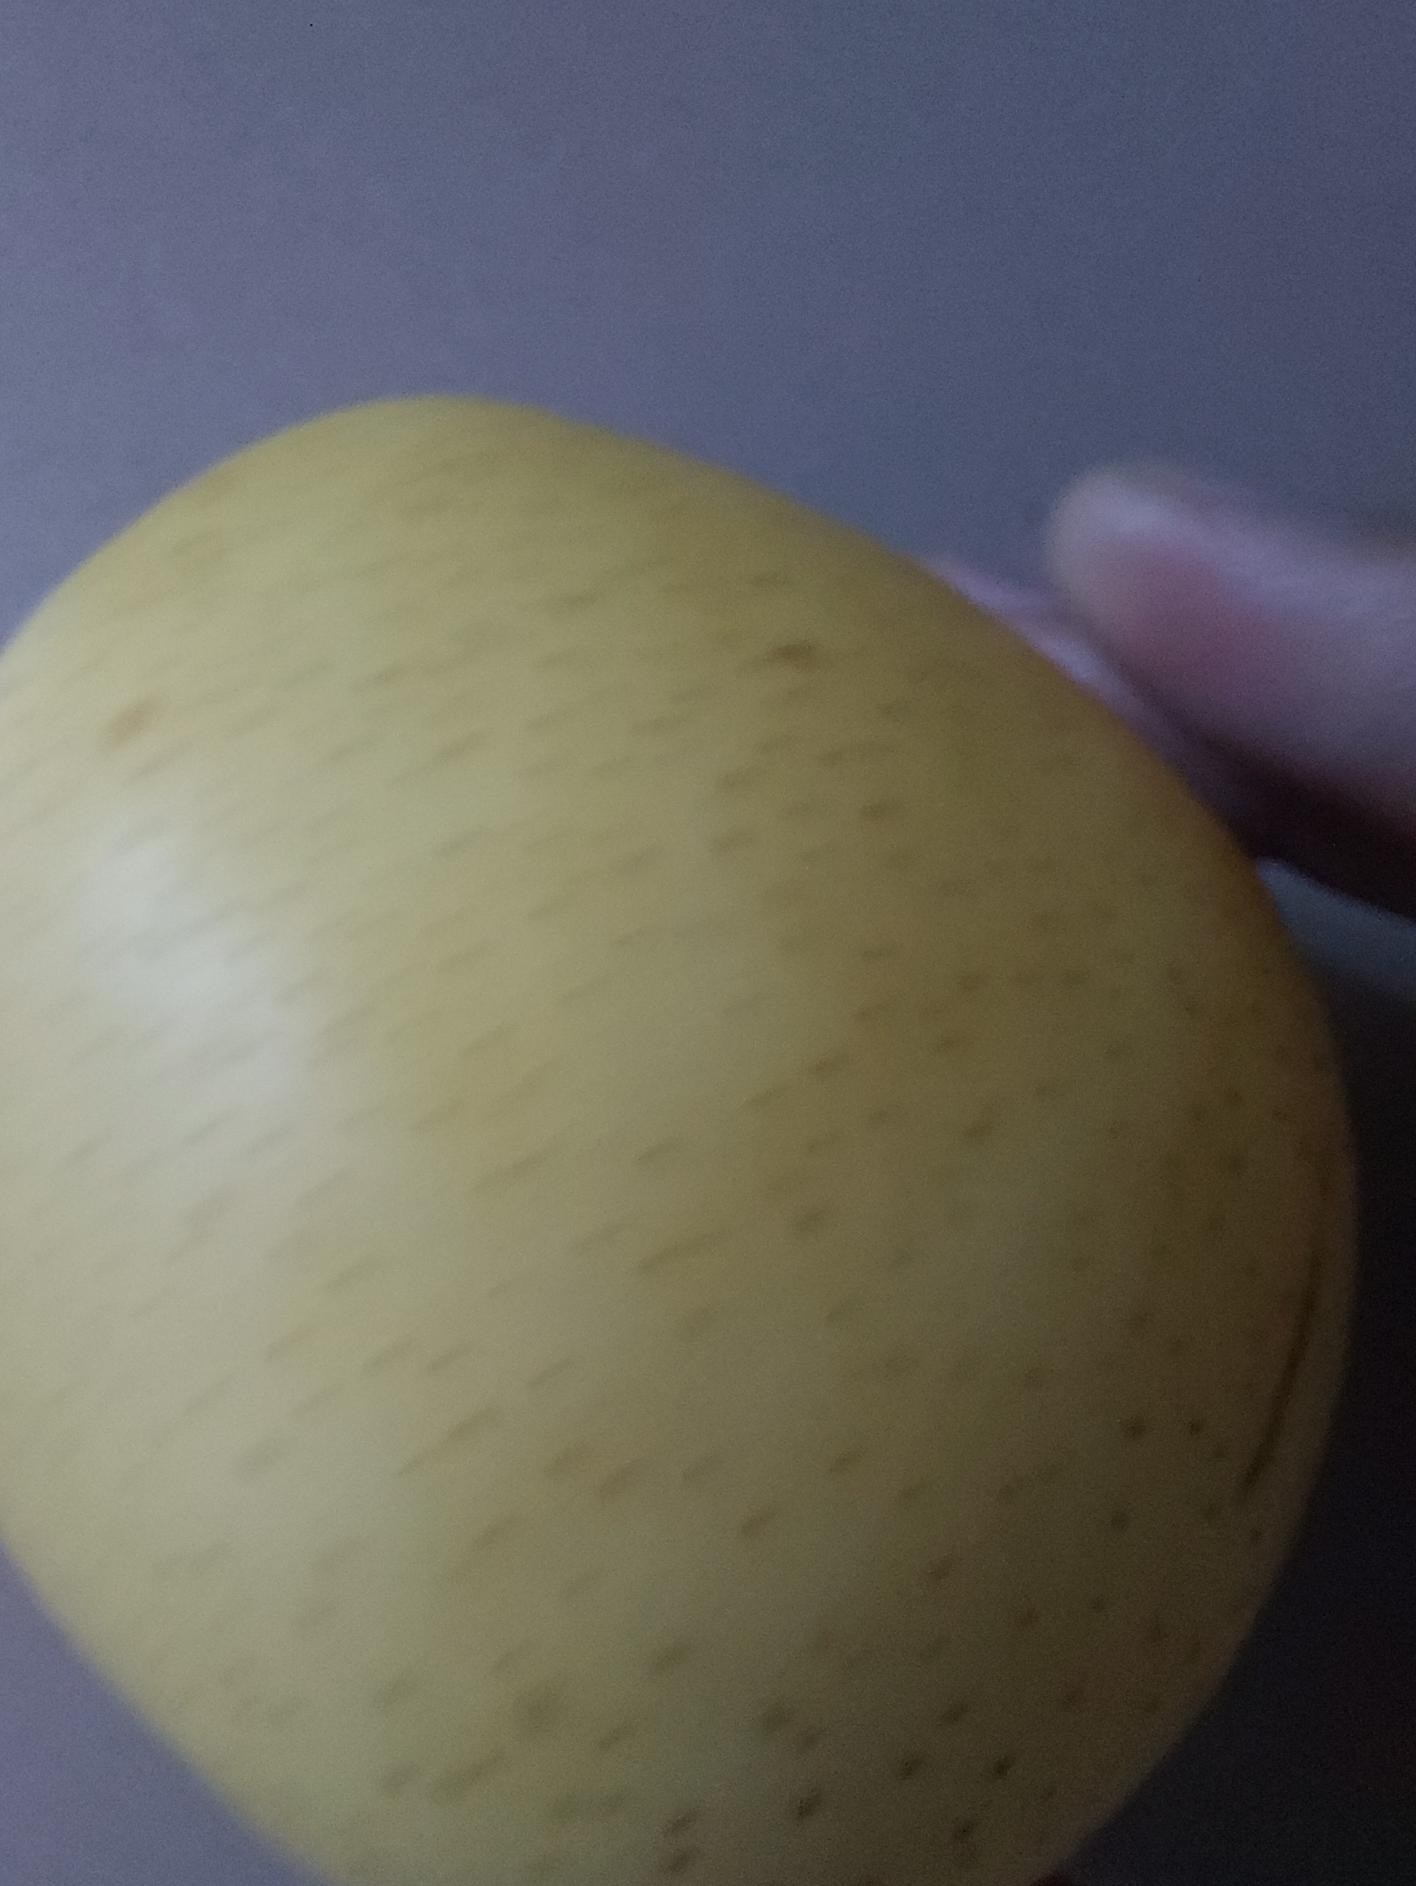Good Pear: (0, 396, 1377, 1886)
